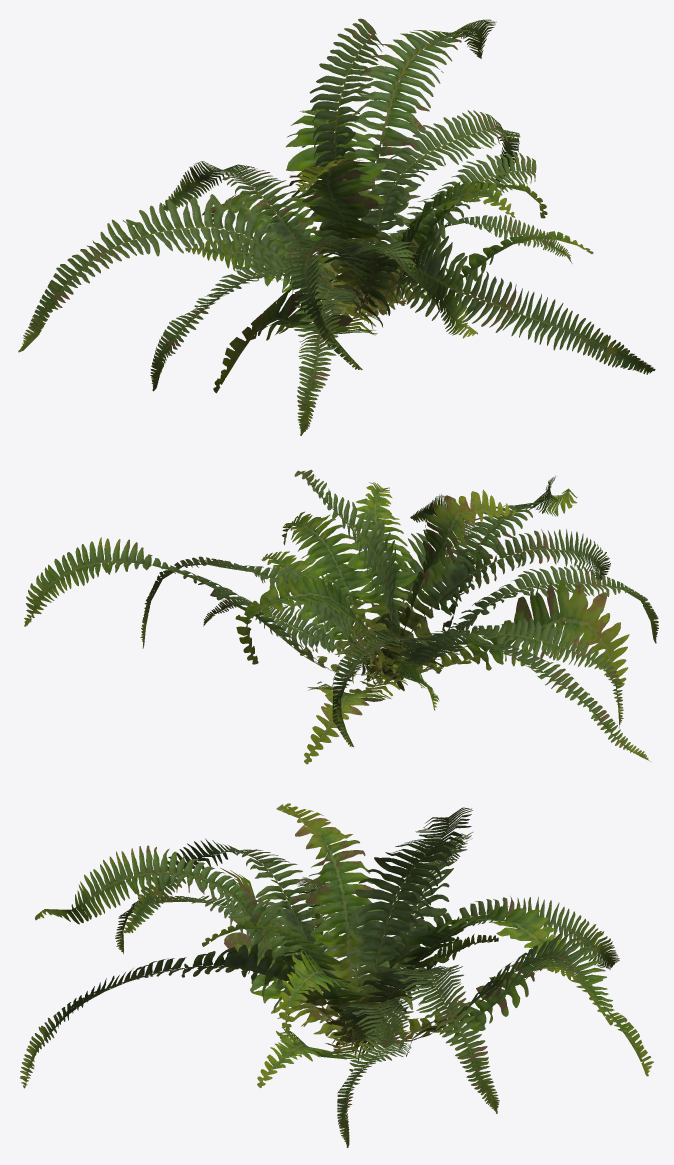
The model's file is fern_02_b.gltf.
3 renders of one model, top to bottom at view 1: azimuth 30°, elevation 25°; view 2: azimuth 150°, elevation 25°; view 3: azimuth 270°, elevation 25°, orthographic. The views are drawn at different scales.
Visible parts, largest first — view 1: fern_02_b__x; view 2: fern_02_b__x; view 3: fern_02_b__x.
Part boxes in pixels (x1,y1,x2,y2): fern_02_b__x: [18, 18, 655, 435]; fern_02_b__x: [24, 469, 658, 764]; fern_02_b__x: [20, 803, 653, 1147].
Size of the model in its own units: 0.9897 by 0.4277 by 0.8937.
Materials: 1 (1 with a texture image).
